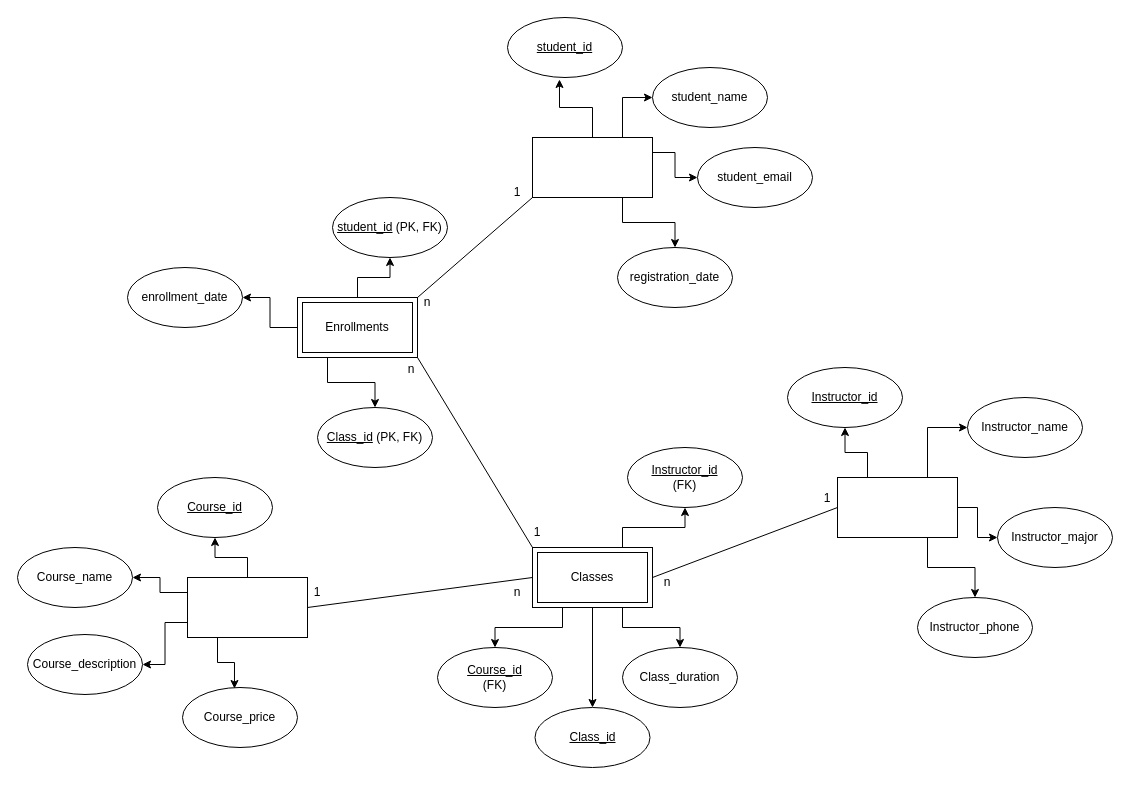
The diagram is 1130 pixels wide and 785 high, and some of its shapes have lost their labels. Here are the shapes that lost their labels. From the top down, the centre of each, then its label:
At point (592, 167): "Students".
At point (897, 507): "Instructors".
At point (247, 607): "Courses".
